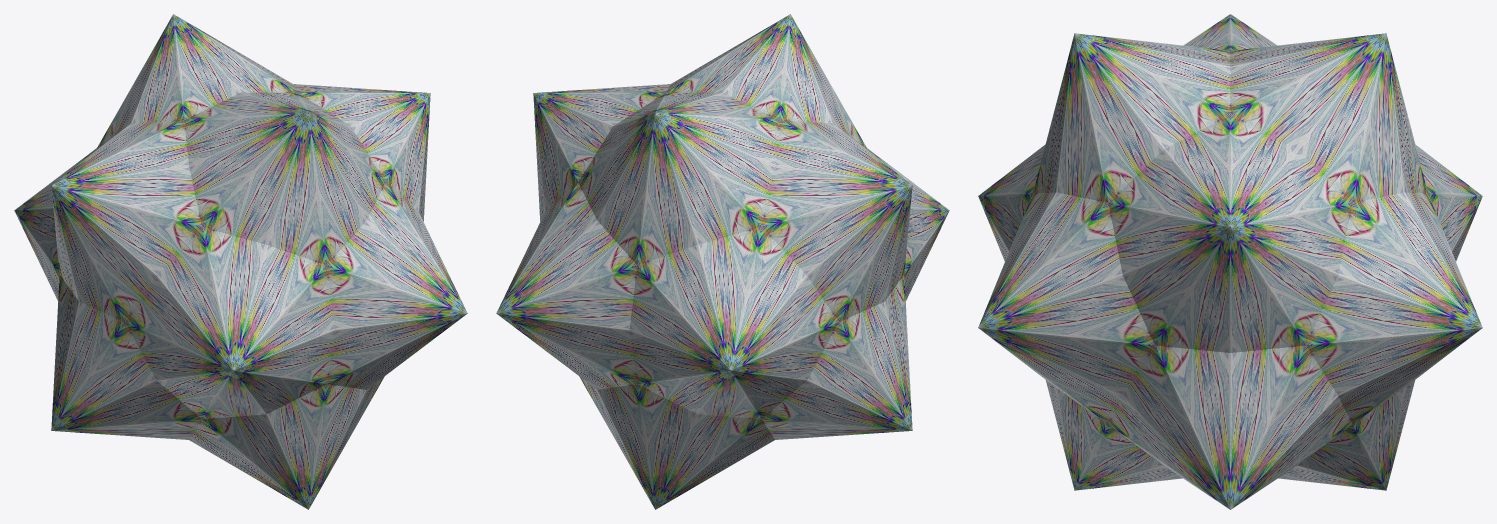
Rendered from SmallDodecacronicHexecontahedron3.obj.
3 renders of one model, left to right at view 1: azimuth 30°, elevation 25°; view 2: azimuth 150°, elevation 25°; view 3: azimuth 270°, elevation 25°, orthographic. The views are drawn at different scales.
Size of the model in its own units: 5.24 by 5.24 by 5.24.
Materials: 1 (1 with a texture image).
